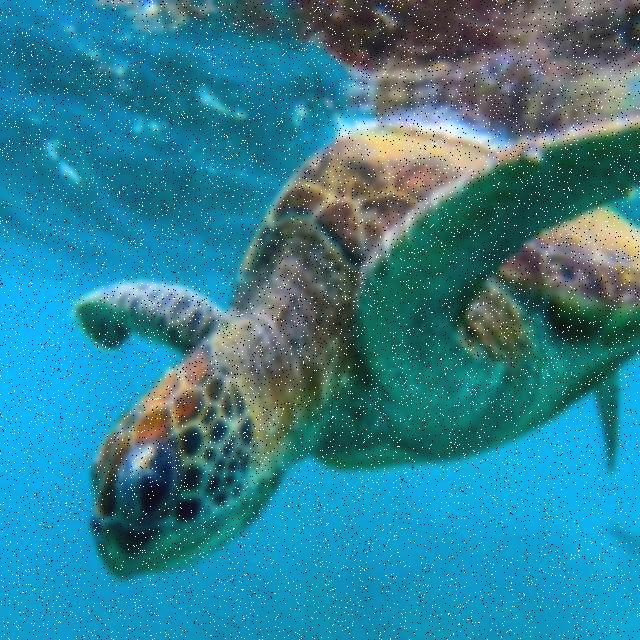tortoise: (60, 109, 640, 581)
